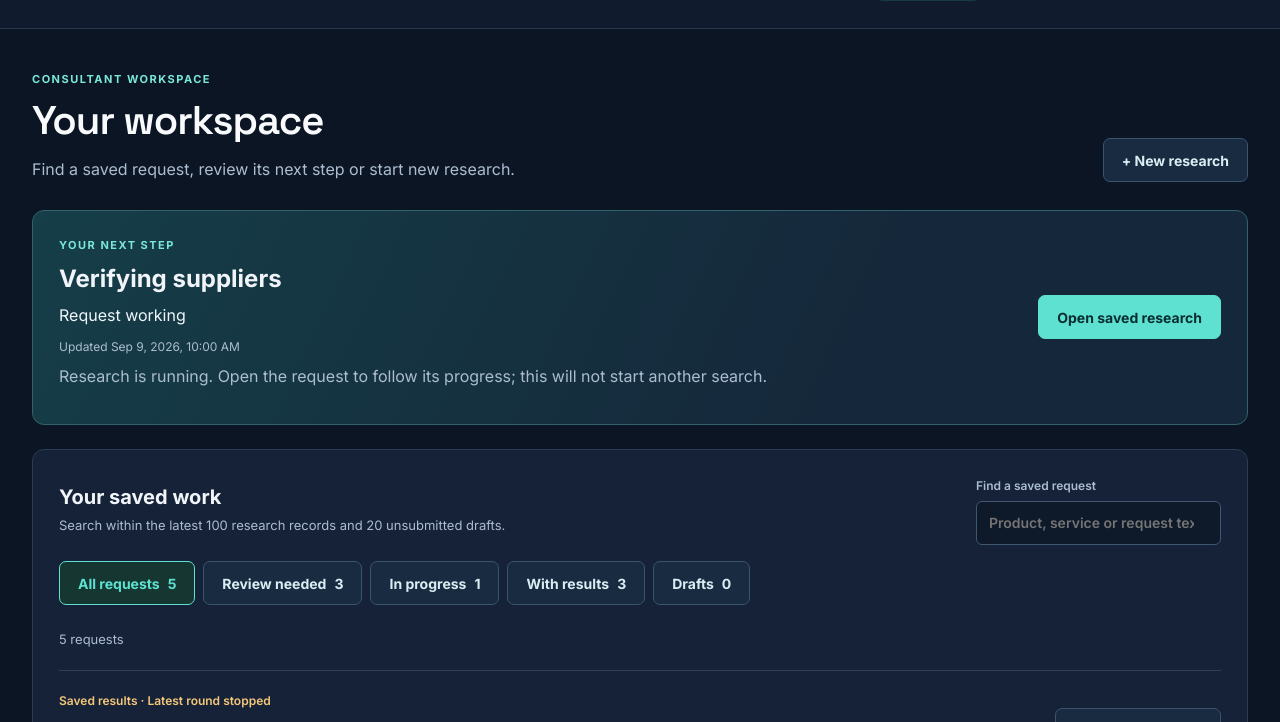
MB-UX-SIMPLIFY-001 L01 finding and returning to saved work › filters retained results after a later failure without presenting the failed round as complete
Expected: the button "All requests 5" is shown, x1=59 y1=561 x2=195 y2=605
Click the button "With results 3". click: (576, 583)
box: x1=508 y1=561 x2=645 y2=605
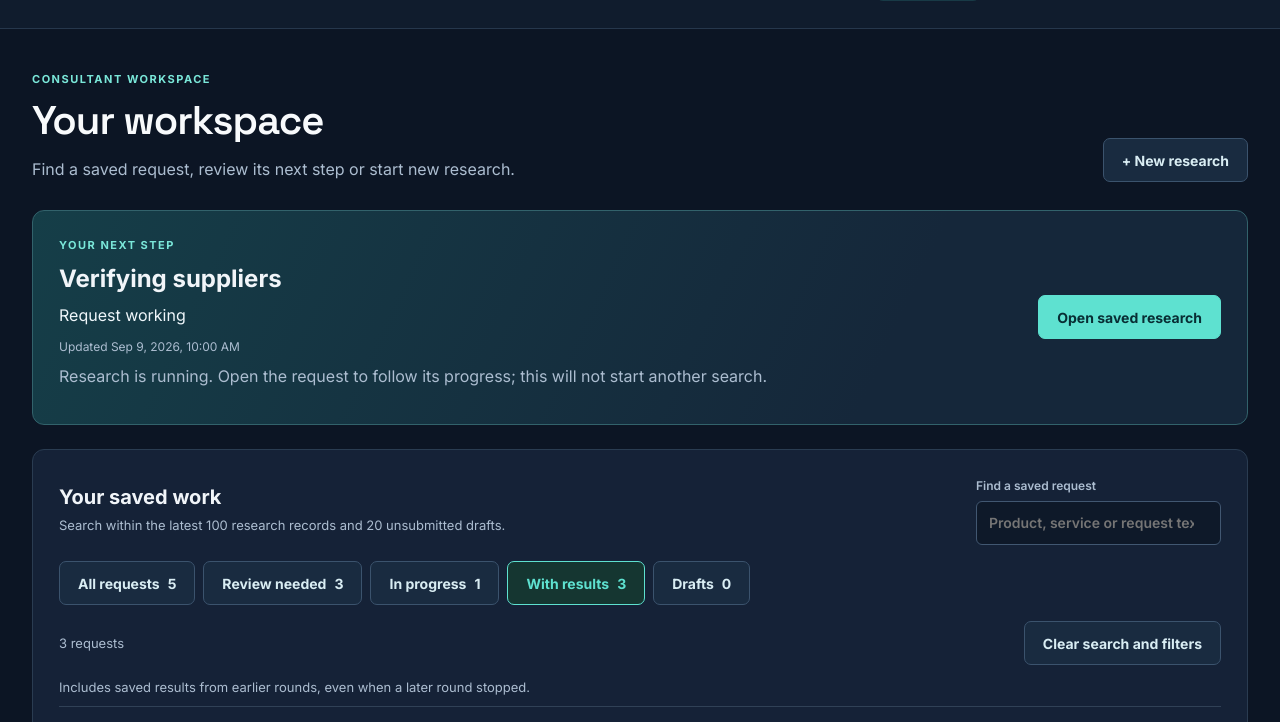
Expected: the number of list items is 3
Click the button "Review needed 3". click: (283, 583)
box: x1=203 y1=561 x2=362 y2=605
(page scrolled)
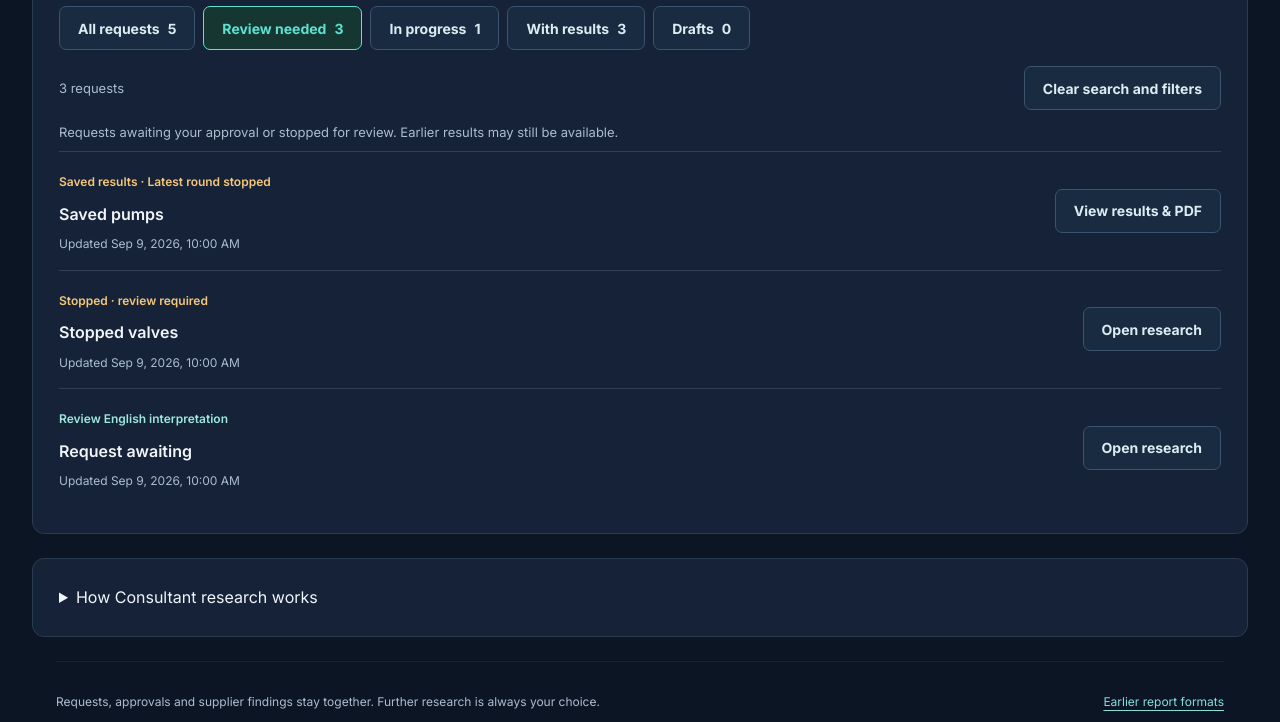
Expected: the heading "Saved pumps" is shown, x1=59 y1=204 x2=164 y2=224
Expected: the number of list items is 3, x1=59 y1=151 x2=1221 y2=270; x1=59 y1=270 x2=1221 y2=388; x1=59 y1=388 x2=1221 y2=507
Expected: the heading "Stopped valves" is shown, x1=59 y1=322 x2=178 y2=342
